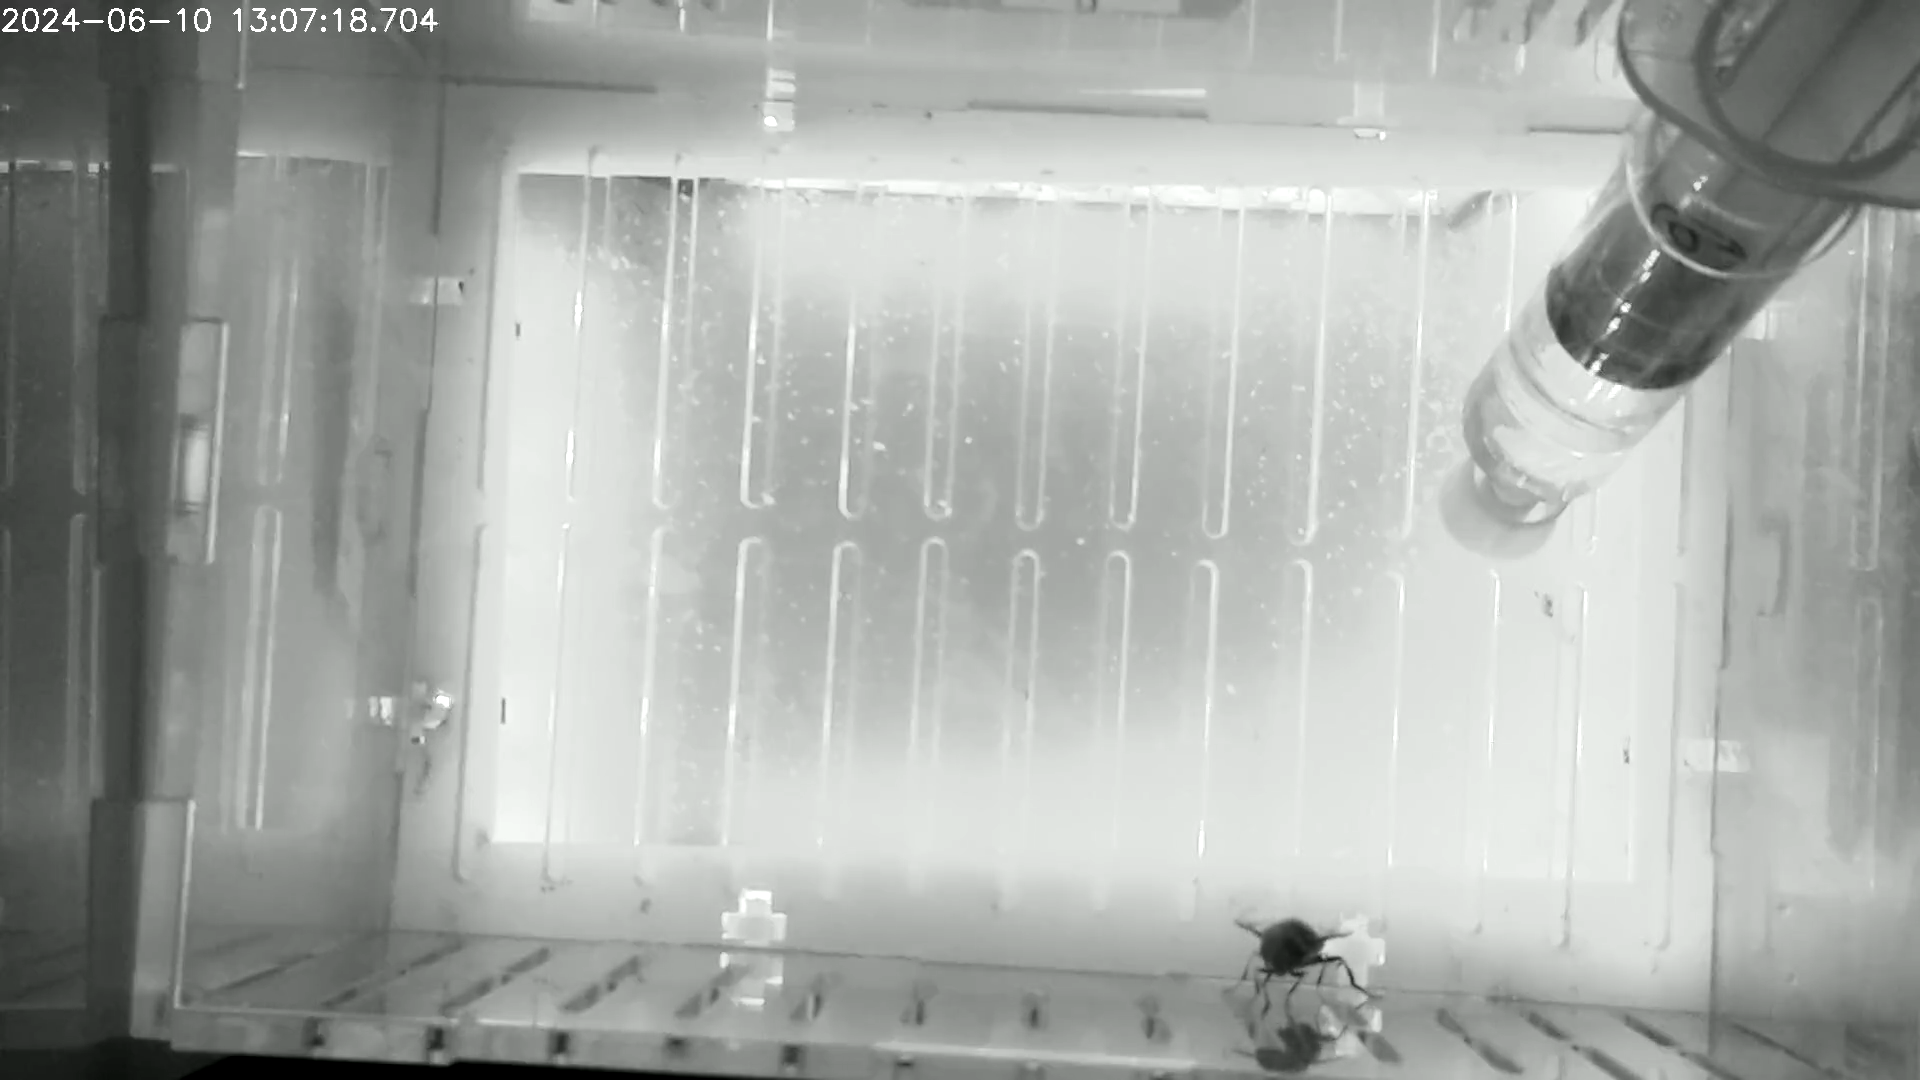bee: (1215, 898, 1394, 1027)
feeder: (1454, 137, 1801, 515)
